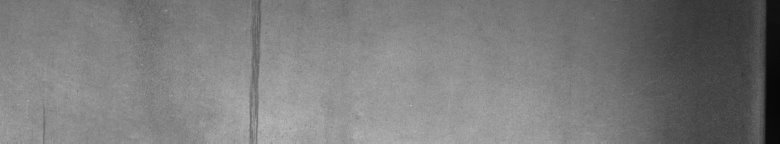hd: (244, 4, 265, 136)
